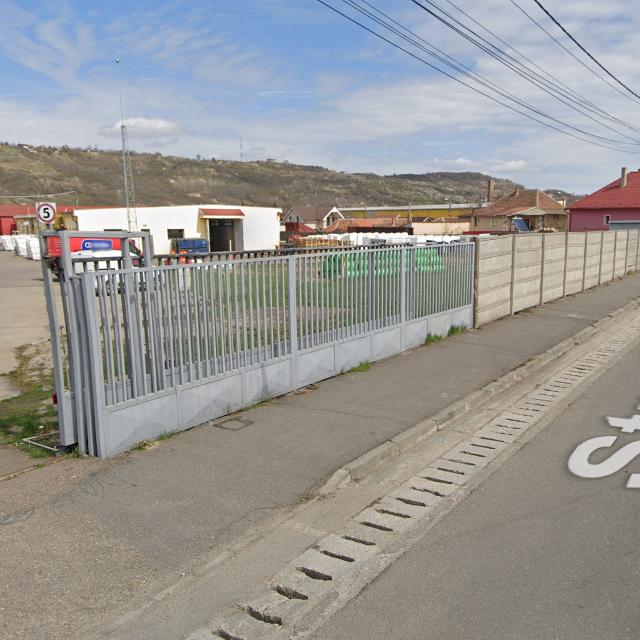forb_speed_over_5: (37, 203, 56, 223)
